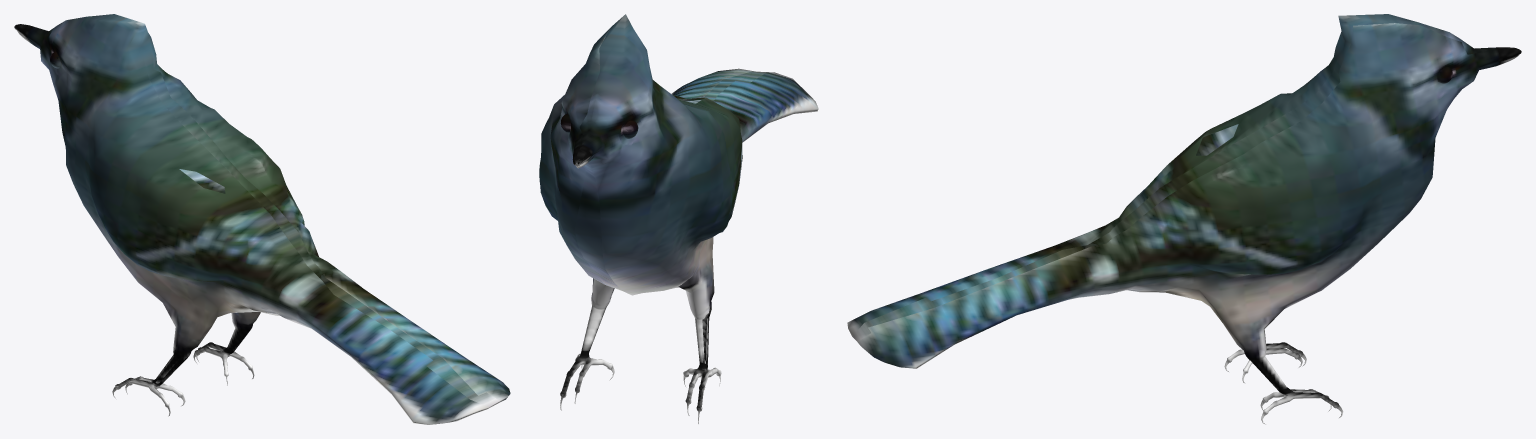
File: ChangeTurnBird.dae
The picture shows the model from 3 angles, left to right: view 1: azimuth 30°, elevation 25°; view 2: azimuth 150°, elevation 25°; view 3: azimuth 270°, elevation 25°; orthographic projection. The views are drawn at different scales.
Parts seen in each view (by area): view 1: bluj_body; view 2: bluj_body; view 3: bluj_body.
Boxes of the visible parts, x1,y1,x2,y2 form: bluj_body: (14,14,510,424); bluj_body: (539,14,818,423); bluj_body: (847,14,1521,424).
Bounding box in the file's own units: 0.6014 × 1.48 × 0.9104.
